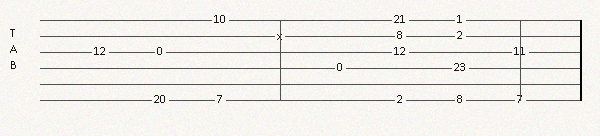0: (157, 46, 167, 58), (337, 62, 347, 74)
1: (457, 14, 467, 26)
10: (214, 14, 230, 26)
11: (514, 46, 530, 58)
12: (94, 46, 110, 58), (394, 46, 410, 58)
2: (397, 94, 407, 106), (457, 30, 467, 42)
20: (154, 94, 170, 106)
21: (394, 14, 410, 26)
23: (454, 62, 470, 74)
7: (217, 94, 227, 106), (517, 94, 527, 106)
8: (397, 30, 407, 42), (457, 94, 467, 106)
x: (277, 31, 286, 41)
